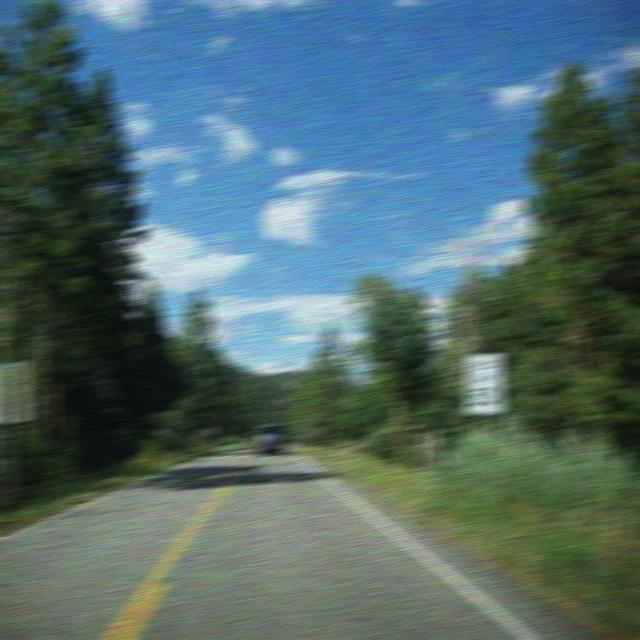speedLimit50: (465, 345, 506, 412)
